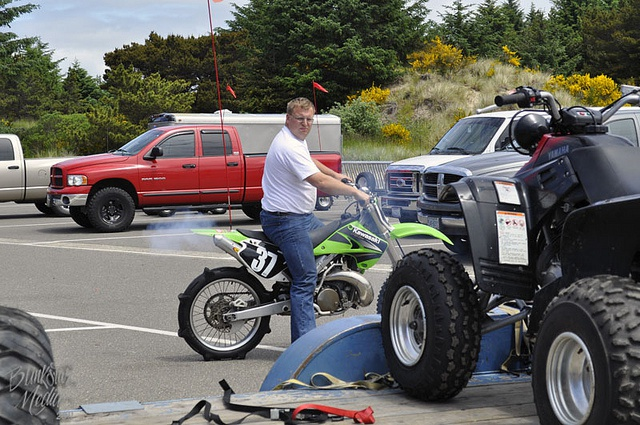non-vehicle: (381, 85, 640, 419), (171, 174, 458, 369)
